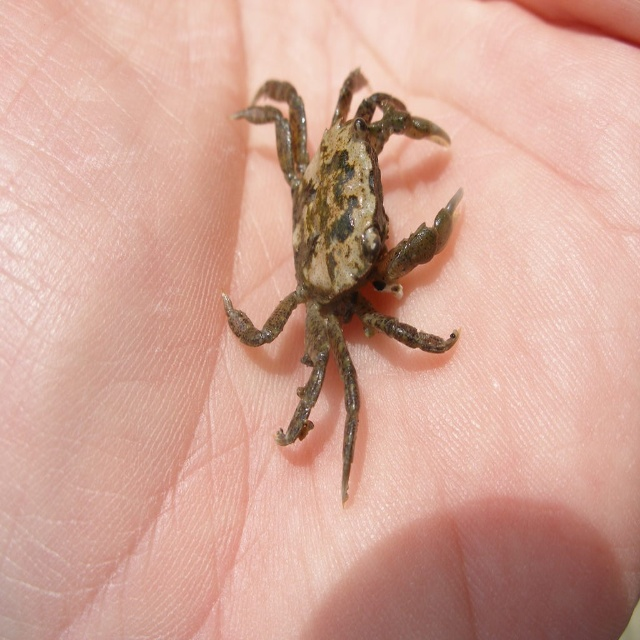Spider: (222, 66, 464, 510)
